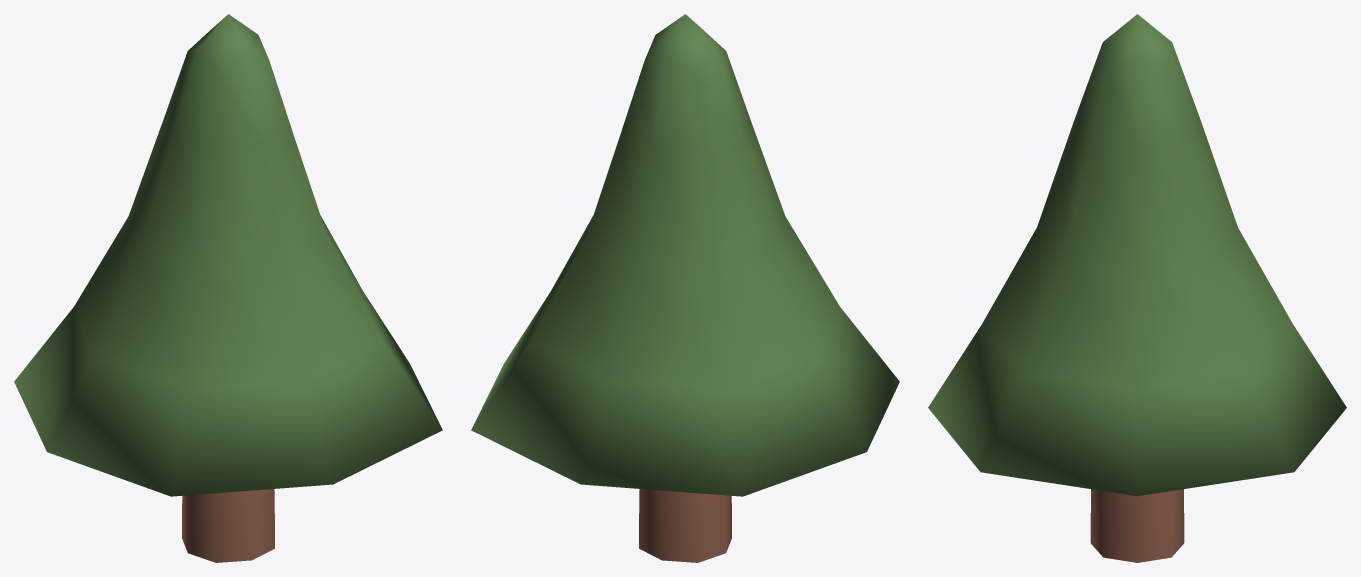
The model's file is Tree_small2.fbx.
3 renders of one model, left to right at view 1: azimuth 30°, elevation 25°; view 2: azimuth 150°, elevation 25°; view 3: azimuth 270°, elevation 25°, orthographic.
Parts seen in each view (by area): view 1: Tree_small2; view 2: Tree_small2; view 3: Tree_small2.
Part boxes in pixels (x1,y1,x2,y2): Tree_small2: [14, 14, 442, 562]; Tree_small2: [471, 14, 899, 562]; Tree_small2: [928, 14, 1346, 562].
Size of the model in its own units: 175 by 175 by 244.
